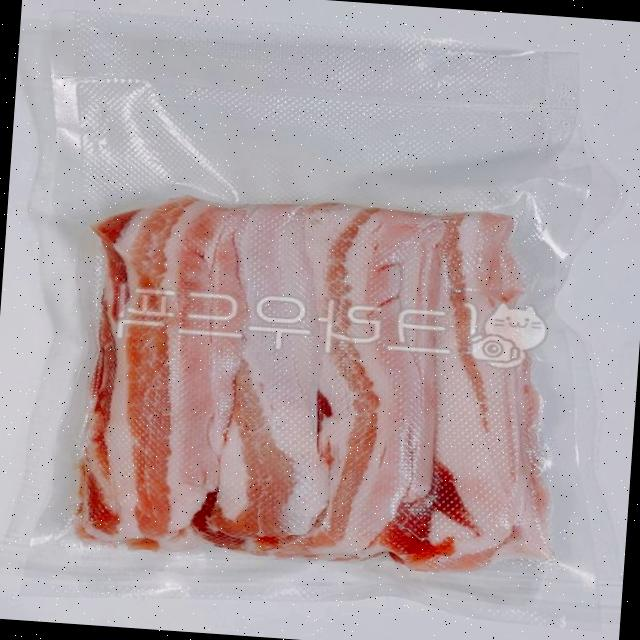meat: (29, 147, 604, 600)
